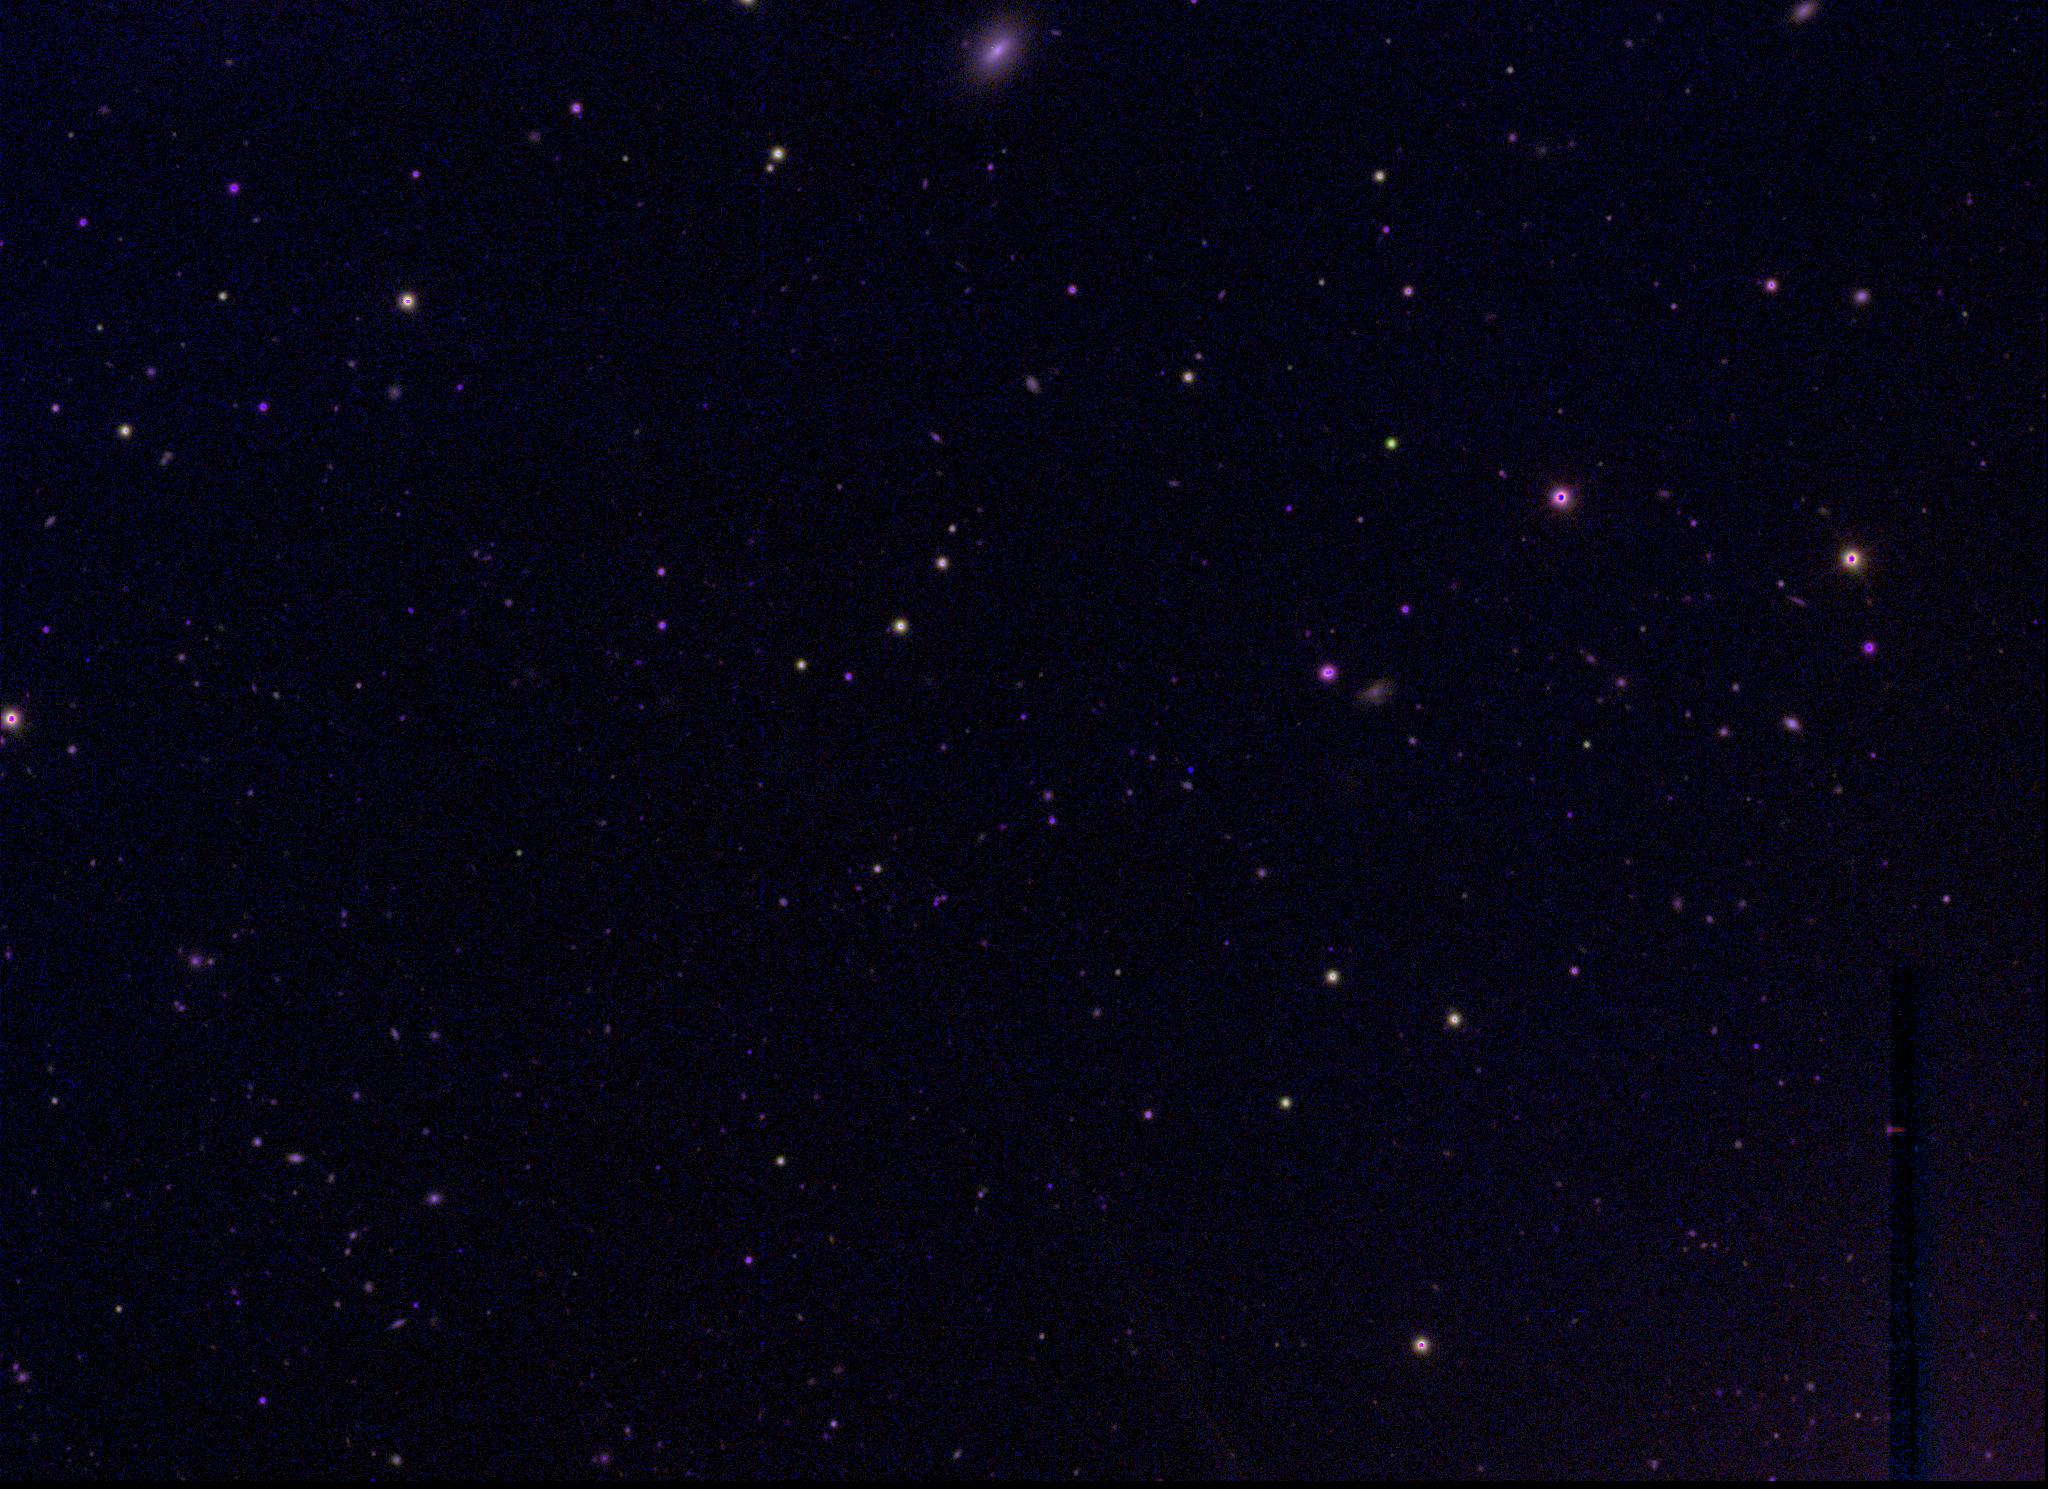L: (1185, 760, 1199, 775)
